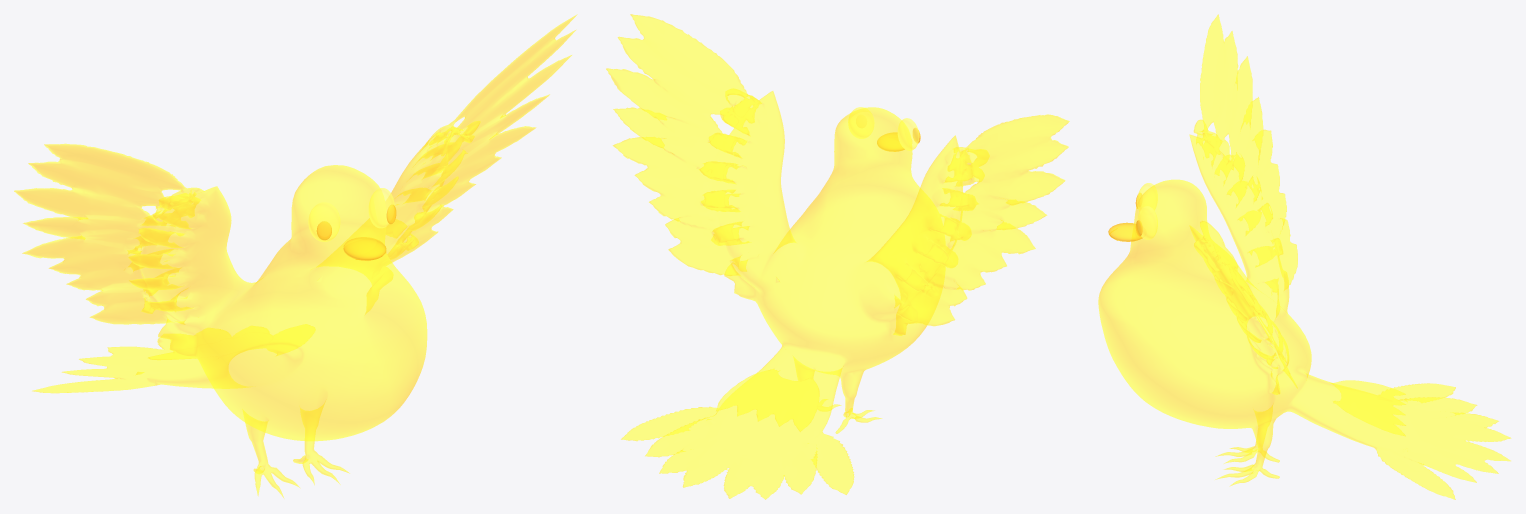
Rendered from naige_yellow_selection.fbx.
3 views of the same model, side by side, from view 1: azimuth 30°, elevation 25°; view 2: azimuth 150°, elevation 25°; view 3: azimuth 270°, elevation 25° (orthographic). The views are drawn at different scales.
Parts seen in each view (by area): view 1: Continuous_body_wings_tail_legs, Green_eye_-1, Green_eye_1, Small_closed_beak; view 2: Continuous_body_wings_tail_legs, Green_eye_1, Green_eye_-1; view 3: Continuous_body_wings_tail_legs, Green_eye_1, Small_closed_beak, Green_eye_-1.
Boxes of the visible parts, x1,y1,x2,y2 form: Continuous_body_wings_tail_legs: (14, 14, 577, 497); Green_eye_-1: (308, 202, 340, 241); Green_eye_1: (368, 188, 394, 228); Small_closed_beak: (343, 237, 386, 260); Continuous_body_wings_tail_legs: (606, 14, 1069, 499); Green_eye_1: (848, 107, 874, 138); Green_eye_-1: (897, 118, 919, 150); Continuous_body_wings_tail_legs: (1098, 14, 1510, 499); Green_eye_1: (1137, 206, 1157, 239); Small_closed_beak: (1108, 222, 1142, 241); Green_eye_-1: (1137, 183, 1157, 211).
Size of the model in its own units: 27.31 by 19.35 by 20.89.
